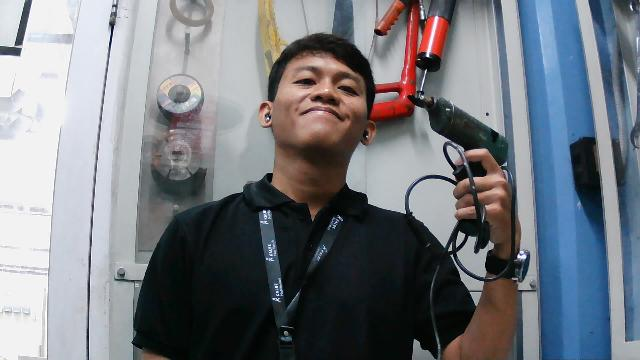gun_lem: (400, 86, 527, 250)
